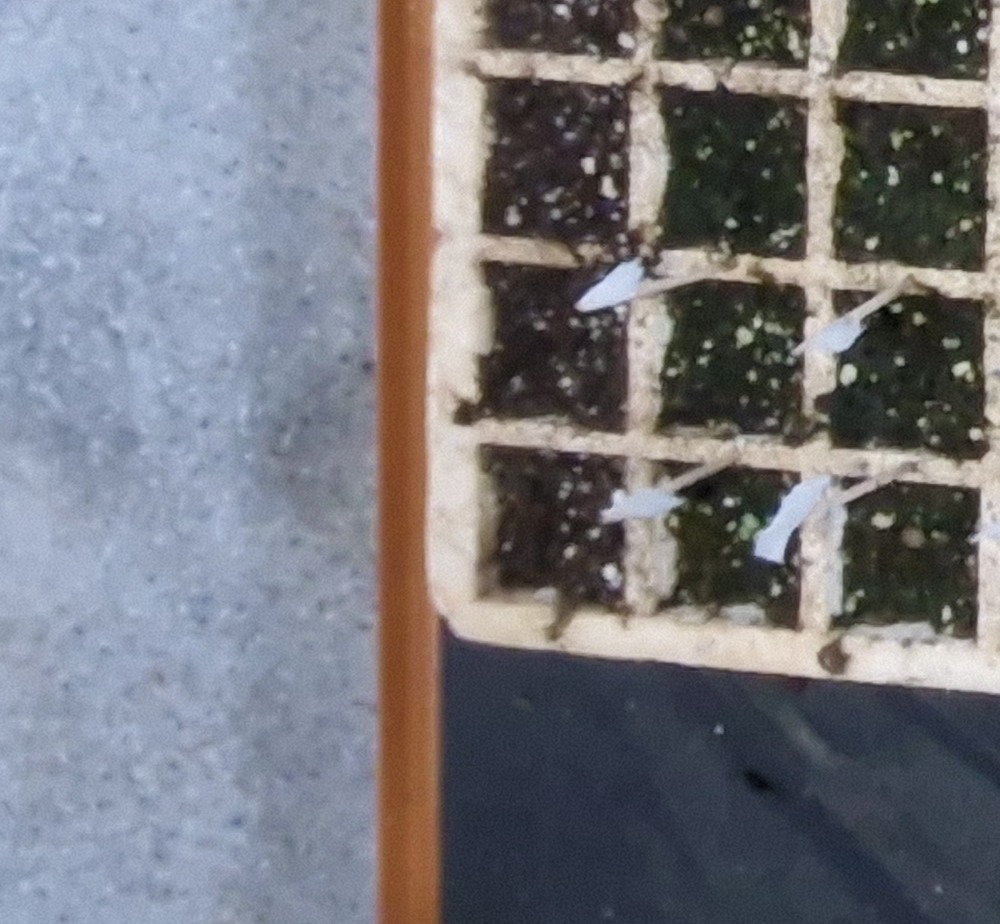Folha: (743, 513, 760, 527), (737, 527, 749, 540)
Germinacao: (737, 510, 760, 541)
